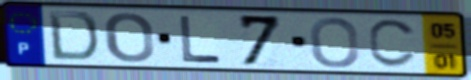7: (237, 13, 284, 68)
C: (366, 18, 420, 71)
D: (46, 9, 102, 64)
L: (177, 14, 224, 65)
O: (307, 16, 362, 70), (102, 11, 157, 64)
